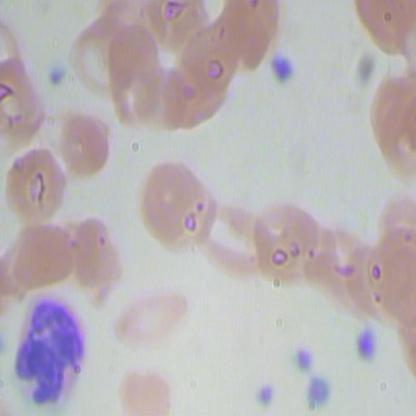Platelets: (347, 321, 381, 369), (301, 371, 335, 411), (266, 51, 299, 83), (248, 381, 281, 411), (293, 347, 316, 376), (46, 66, 66, 90)
RBC: (140, 162, 222, 257), (243, 198, 324, 284), (68, 212, 127, 314), (2, 218, 77, 297), (194, 195, 269, 274), (3, 140, 70, 224), (110, 283, 192, 351), (104, 360, 182, 415), (60, 111, 116, 180)
WBC: (4, 287, 89, 415)
